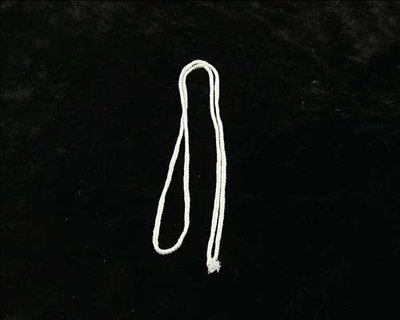9/可回收垃圾/绳子: (151, 58, 227, 275)
